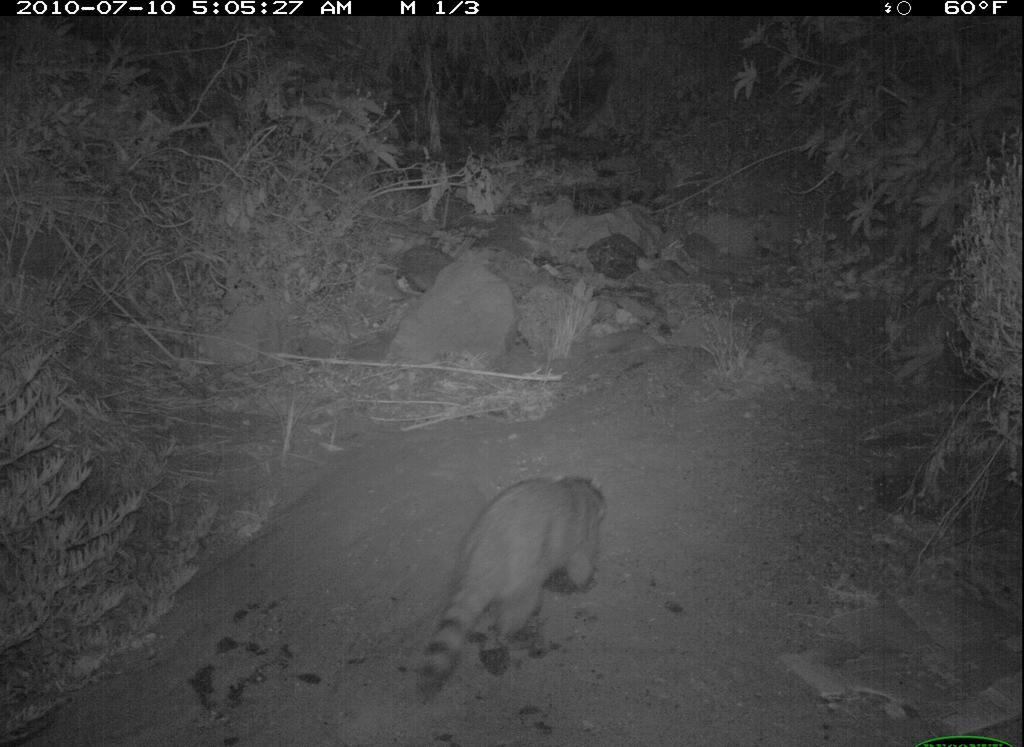raccoon: (409, 469, 612, 708)
